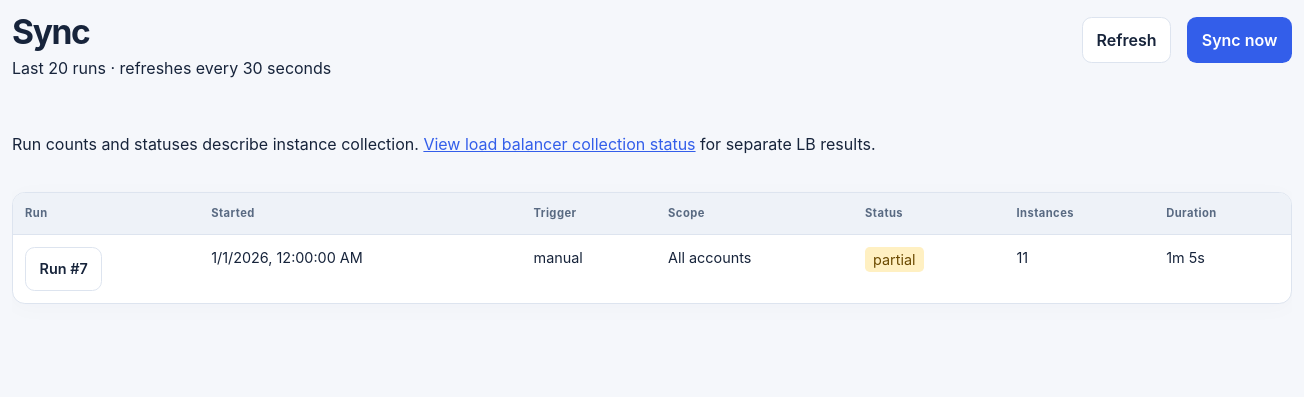
it: explains a 409 start failure and keeps history usable
Expected: the text "1m 5s" is shown, [1154,234,1291,303]
Click the button "Sync now" at (1240,40), box [1187,17,1292,64]
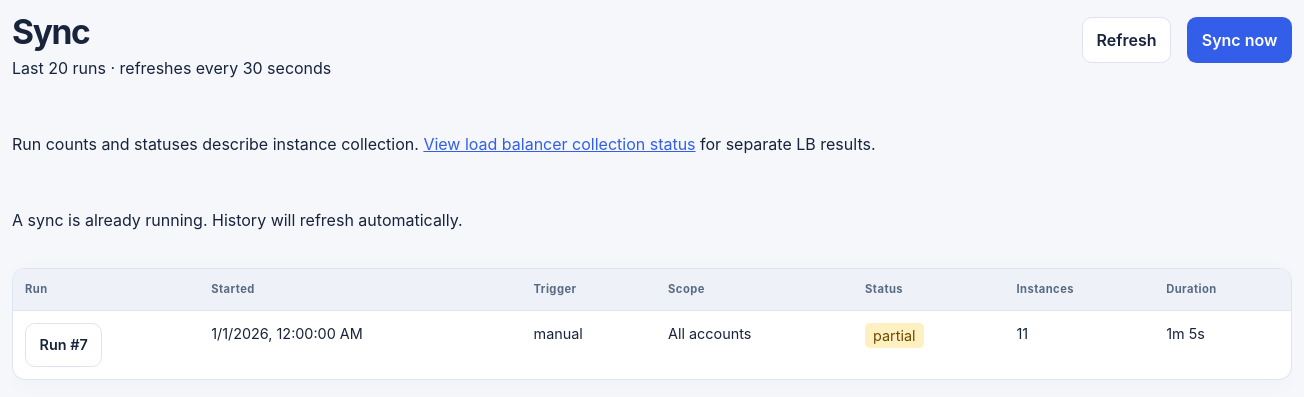
Expected: the button "Run #7" is shown, [25,323,102,367]
Expected: the message shows "already running", [12,210,463,230]
